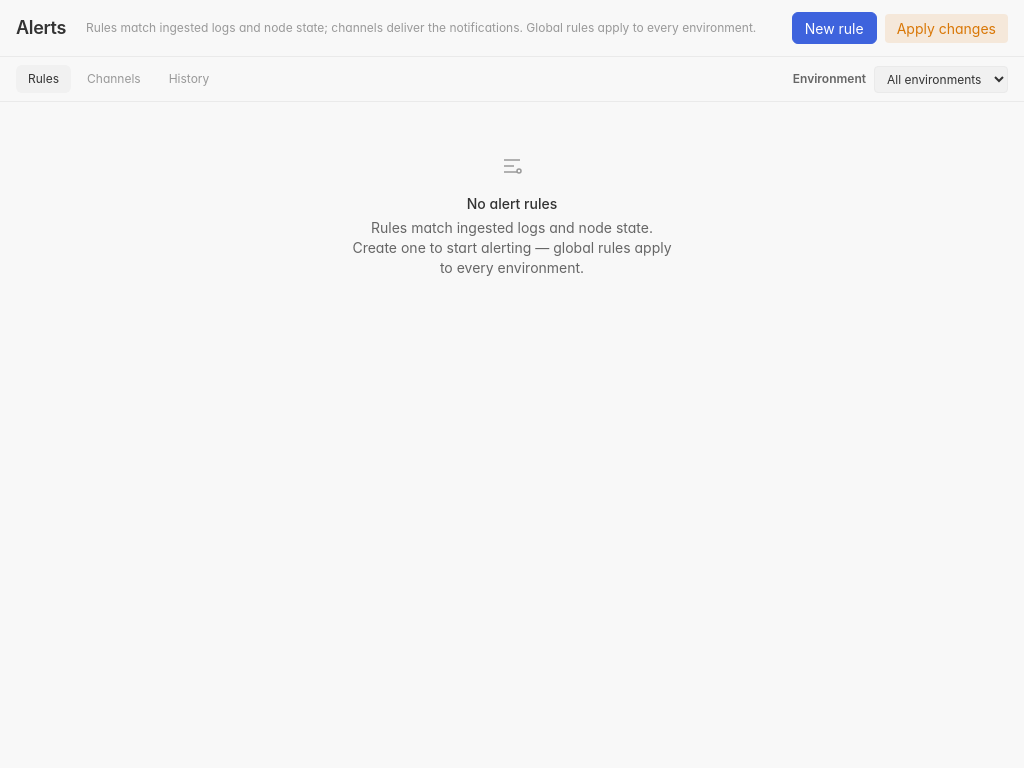
Scenario: AlertsPage › hides pattern inputs for node-state sources
This screenshot has width=1024, height=768.
Click the button "New rule" at (834, 28), box 792,12 -> 877,44
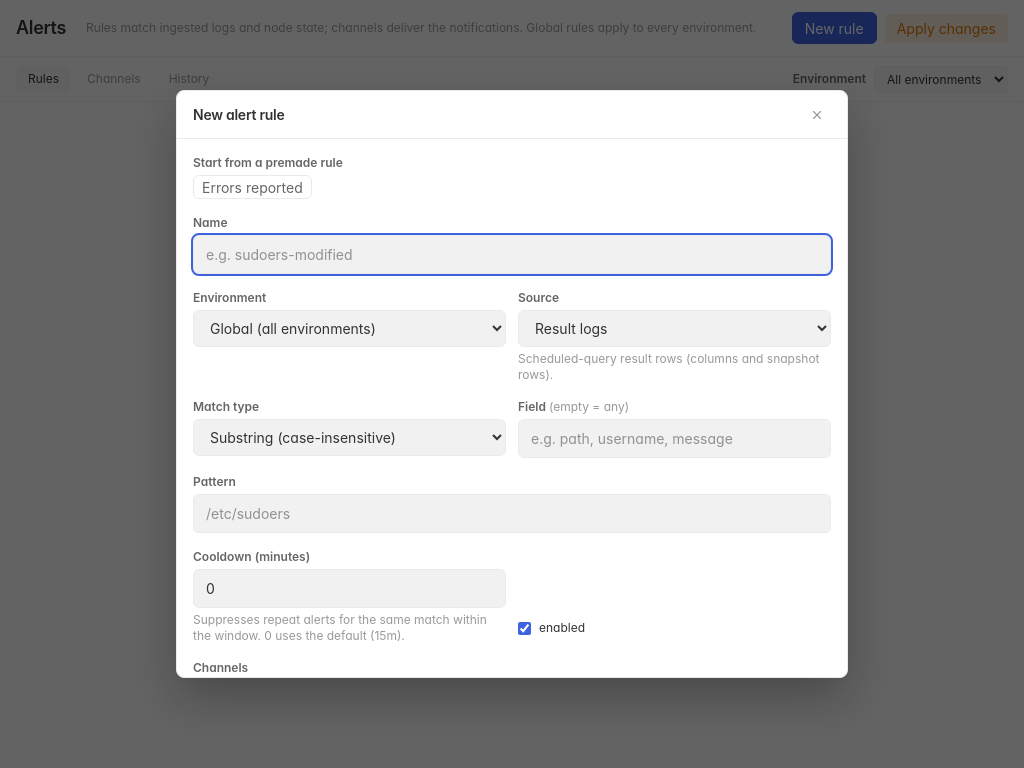
Select "Node inactive" in the dropdown labelled "Source" at (674, 329), box 518,310 -> 831,347
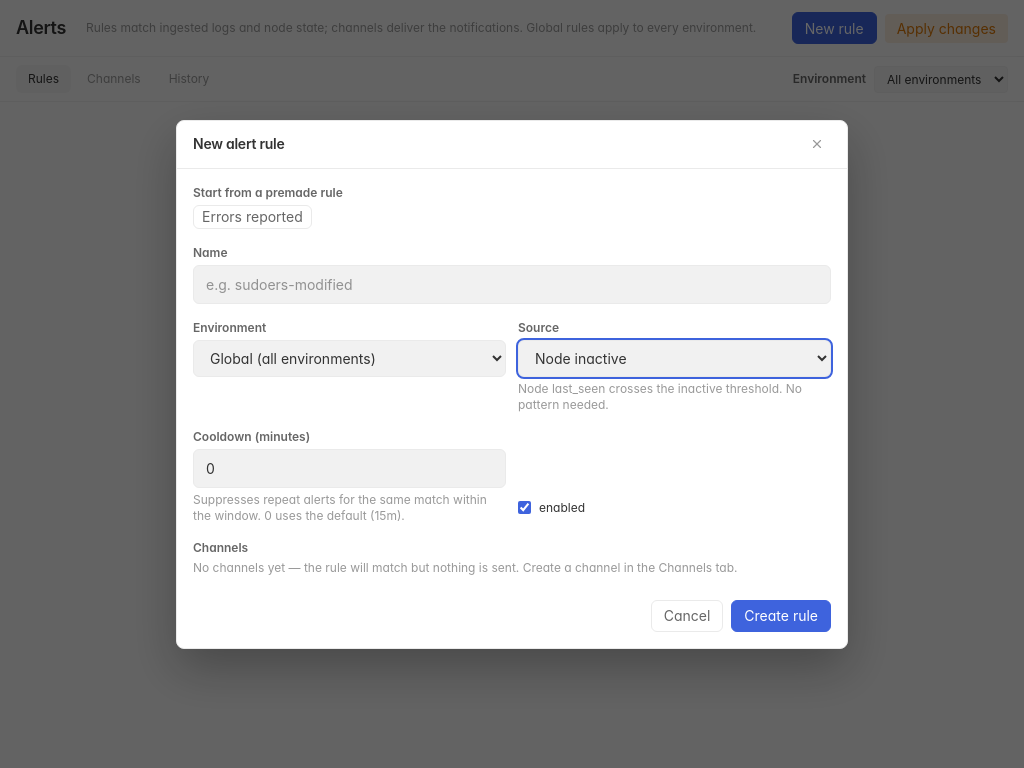
expect the label labelled "Match type" is gone: met
